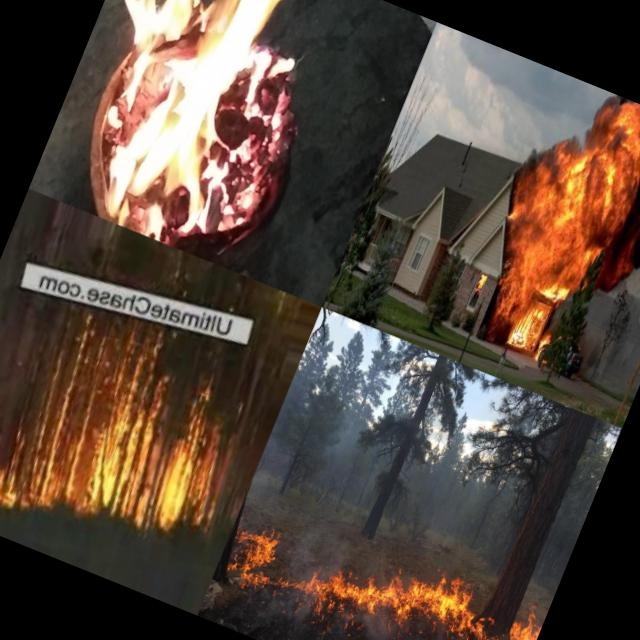fire: (49, 0, 358, 275), (0, 332, 242, 585), (459, 75, 640, 369), (215, 490, 295, 594), (262, 549, 333, 614), (369, 562, 432, 632), (416, 566, 478, 637), (497, 591, 551, 640), (442, 603, 508, 640)
smoke: (396, 457, 532, 588), (290, 396, 380, 504), (600, 115, 640, 308), (248, 426, 306, 501), (249, 594, 314, 640), (354, 614, 409, 640), (398, 621, 450, 640)
